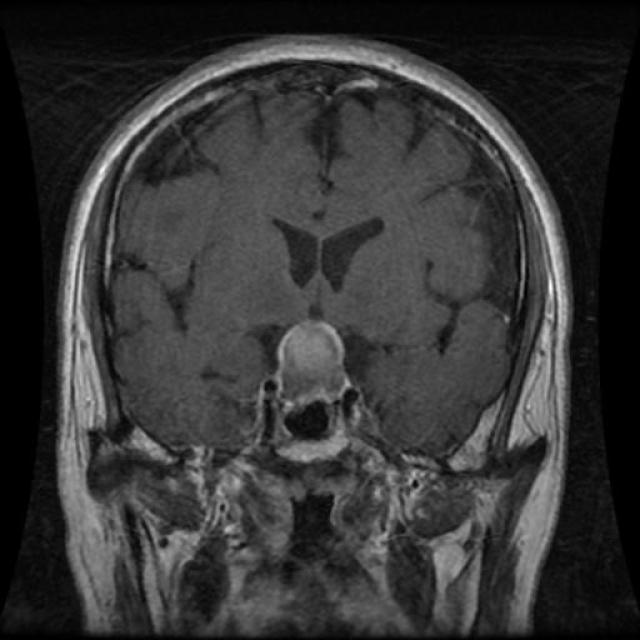brain_tumor: (280, 320, 354, 414)
